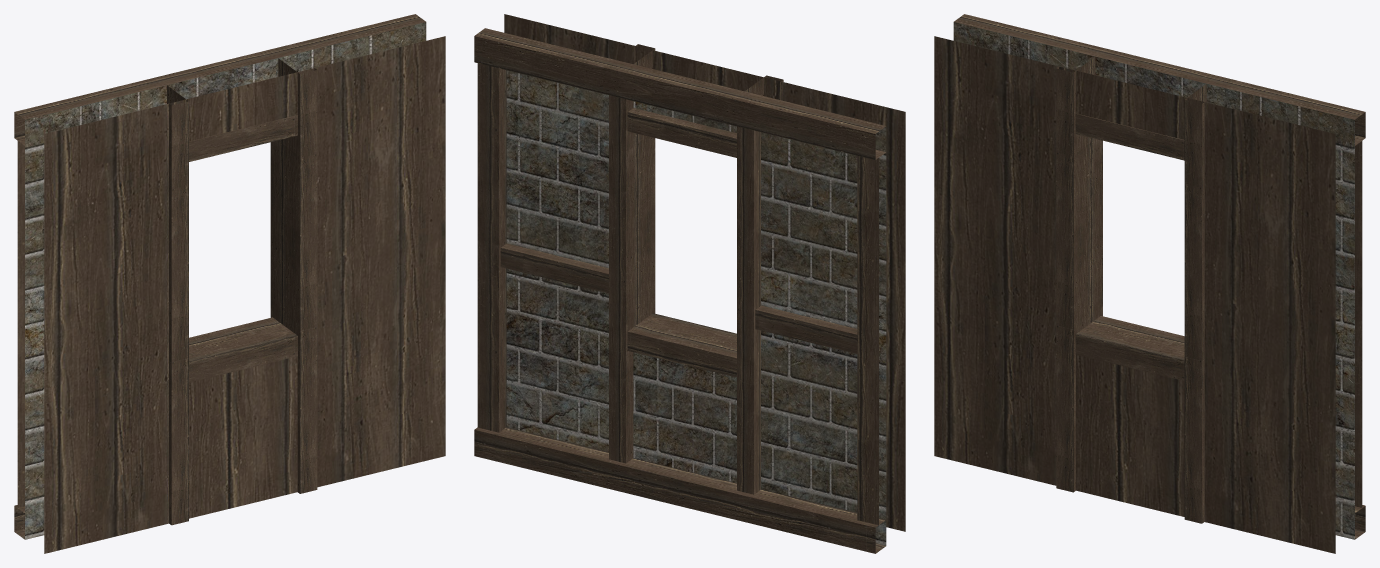
Rendered from ARC1010235.fbx.
3 views of the same model, side by side, from view 1: azimuth 30°, elevation 25°; view 2: azimuth 150°, elevation 25°; view 3: azimuth 330°, elevation 25° (orthographic).
Visible parts, largest first — view 1: smARC1010235; view 2: smARC1010235; view 3: smARC1010235.
Part boxes in pixels (bbox=[...]): smARC1010235: bbox=[14, 14, 445, 553]; smARC1010235: bbox=[474, 14, 905, 553]; smARC1010235: bbox=[934, 14, 1365, 553].
Size of the model in its own units: 268 by 268 by 37.89.
Materials: 1 (1 with a texture image).
